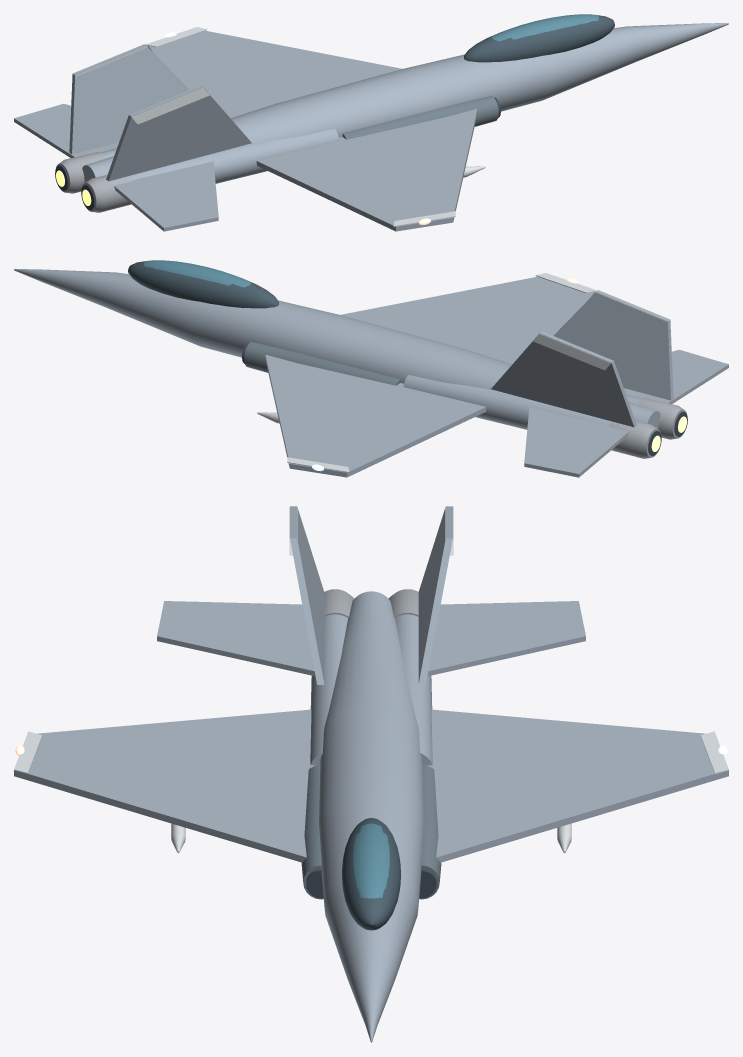
File: JetRook.glb
3 renders of one model, top to bottom at view 1: azimuth 30°, elevation 25°; view 2: azimuth 150°, elevation 25°; view 3: azimuth 270°, elevation 25°, orthographic. The views are drawn at different scales.
Visible parts, largest first — view 1: JetRook; view 2: JetRook; view 3: JetRook.
Boxes of the visible parts, x1,y1,x2,y2 form: JetRook: [14, 14, 728, 231]; JetRook: [14, 260, 728, 477]; JetRook: [14, 506, 728, 1042].
Size of the model in its own units: 17.27 by 3.07 by 11.8.
